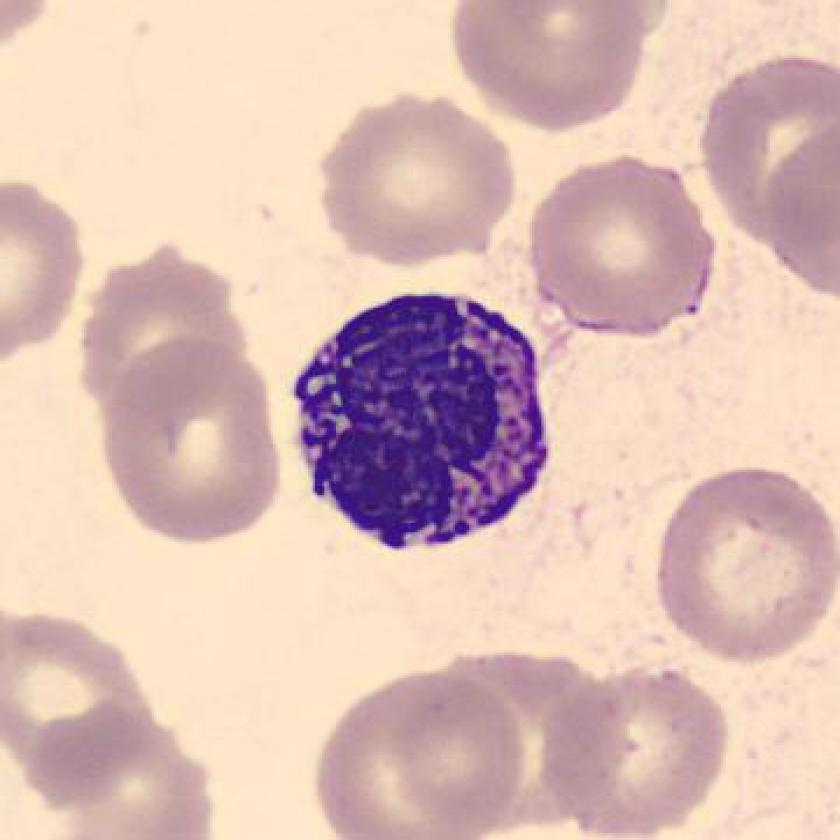basophil: (293, 291, 559, 550)
